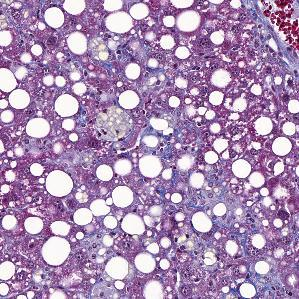fibrosis: (154, 135, 209, 162)
